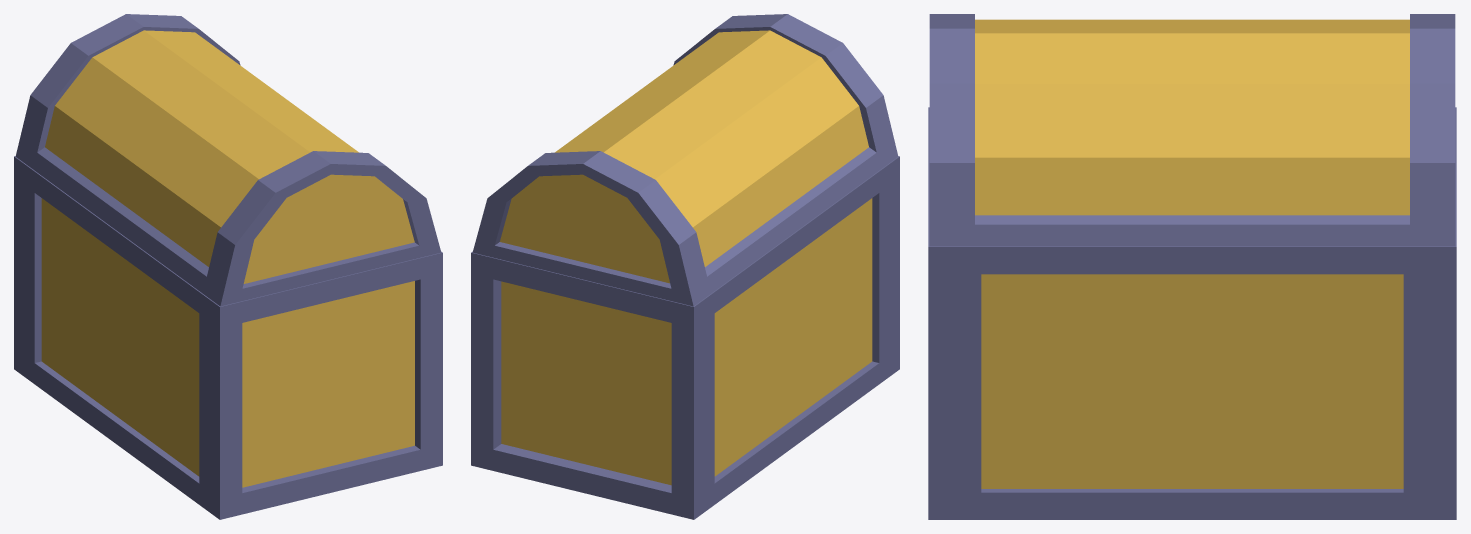
File: Treasure Chest.fbx
The picture shows the model from 3 angles, left to right: view 1: azimuth 30°, elevation 25°; view 2: azimuth 150°, elevation 25°; view 3: azimuth 270°, elevation 25°; orthographic projection. The views are drawn at different scales.
Visible parts, largest first — view 1: Treasure_Chest; view 2: Treasure_Chest; view 3: Treasure_Chest.
Part boxes in pixels (bbox=[...]): Treasure_Chest: bbox=[14, 14, 442, 519]; Treasure_Chest: bbox=[471, 14, 899, 519]; Treasure_Chest: bbox=[928, 14, 1456, 519].
Size of the model in its own units: 125 by 176 by 200.
